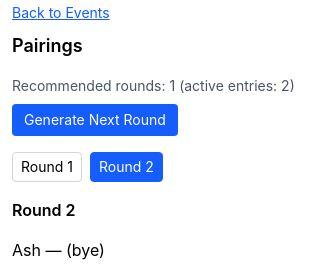
Test: Pairings › shows a past round's matches, read-only, when selected from round history
Expected: the text "Ash — (bye)" is shown, [12,240,105,260]
Click the button "Round 1" at [47, 167], box [12,152,82,182]
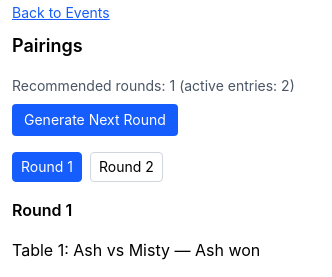
Expected: the text "Table 1: Ash vs Misty — Ash won" is shown, [12,240,260,260]
